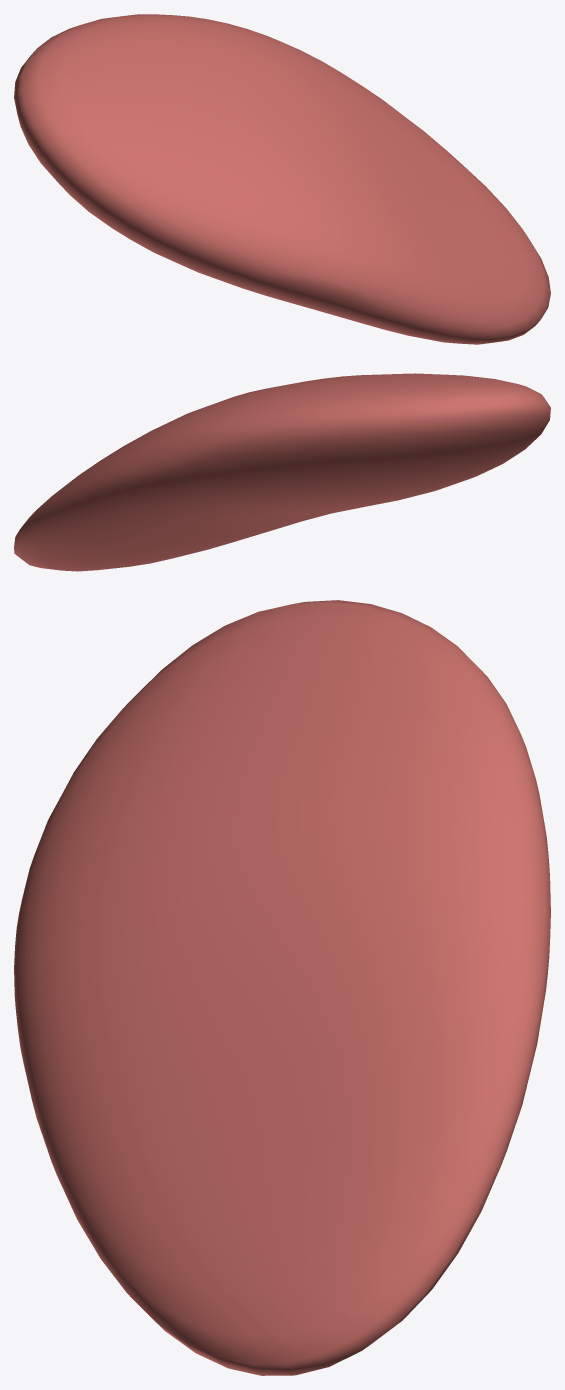
3 renders of one model, top to bottom at view 1: azimuth 30°, elevation 25°; view 2: azimuth 150°, elevation 25°; view 3: azimuth 270°, elevation 25°, orthographic. The views are drawn at different scales.
Visible parts, largest first — view 1: 左侧闭孔内肌腱下囊; view 2: 左侧闭孔内肌腱下囊; view 3: 左侧闭孔内肌腱下囊.
Part boxes in pixels (x1,y1,x2,y2): 左侧闭孔内肌腱下囊: (14, 14, 550, 344); 左侧闭孔内肌腱下囊: (14, 373, 550, 571); 左侧闭孔内肌腱下囊: (14, 600, 550, 1375).
Bounding box in the file's own units: 0.0187 × 0.011 × 0.0118.
